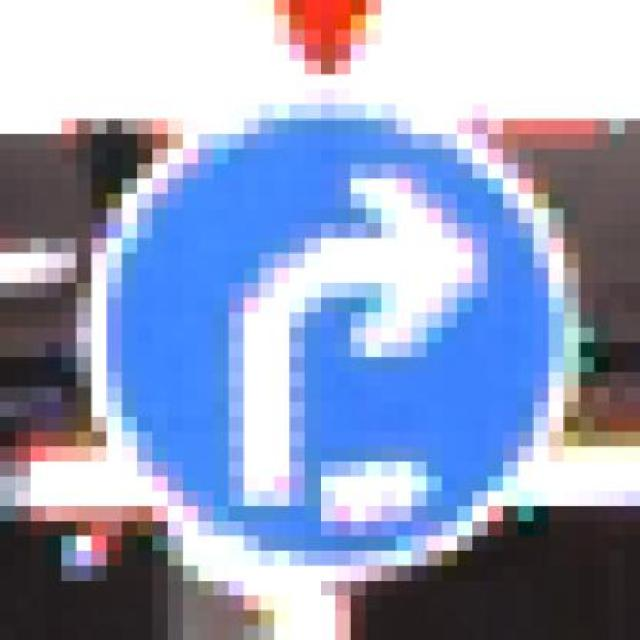Turn right ahead: (74, 91, 592, 597)
